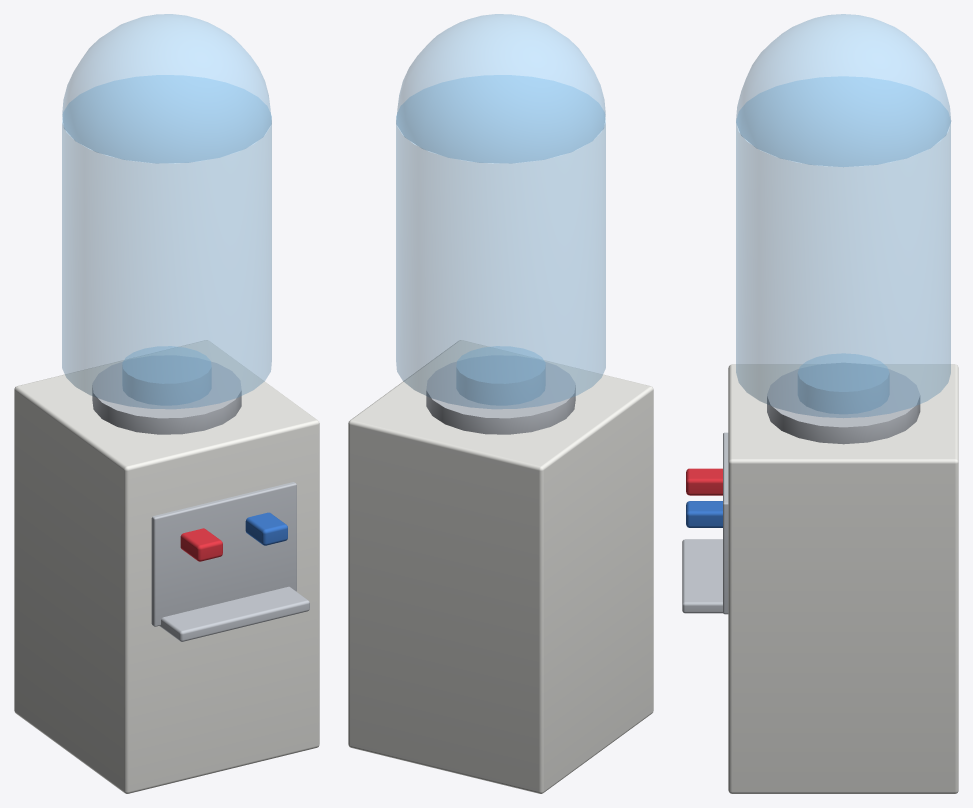
The model's file is water-cooler.glb.
3 renders of one model, left to right at view 1: azimuth 30°, elevation 25°; view 2: azimuth 150°, elevation 25°; view 3: azimuth 270°, elevation 25°, orthographic. The views are drawn at different scales.
Visible parts, largest first — view 1: water-cooler-solid, water-cooler-glass, water-cooler-metal; view 2: water-cooler-solid, water-cooler-glass; view 3: water-cooler-solid, water-cooler-glass, water-cooler-metal.
Boxes of the visible parts, x1,y1,x2,y2 form: water-cooler-solid: (14,340,319,793); water-cooler-glass: (62,14,271,408); water-cooler-metal: (159,586,309,641); water-cooler-solid: (348,340,653,793); water-cooler-glass: (396,14,605,408); water-cooler-solid: (686,363,958,793); water-cooler-glass: (736,14,950,417); water-cooler-metal: (682,539,722,613).
Size of the model in its own units: 0.2395 by 0.8288 by 0.2875.
